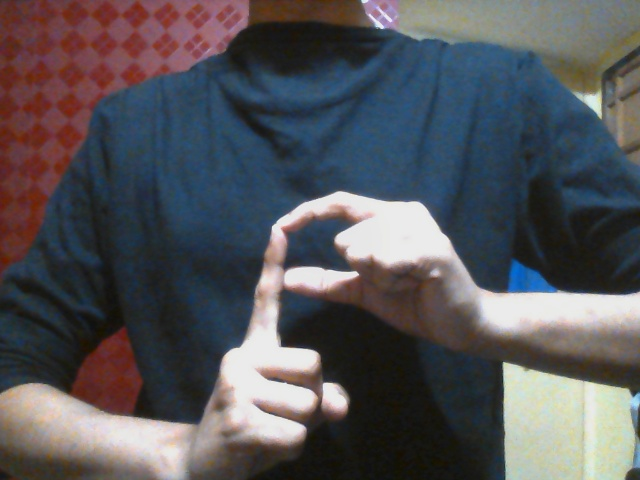P: (202, 191, 469, 464)
